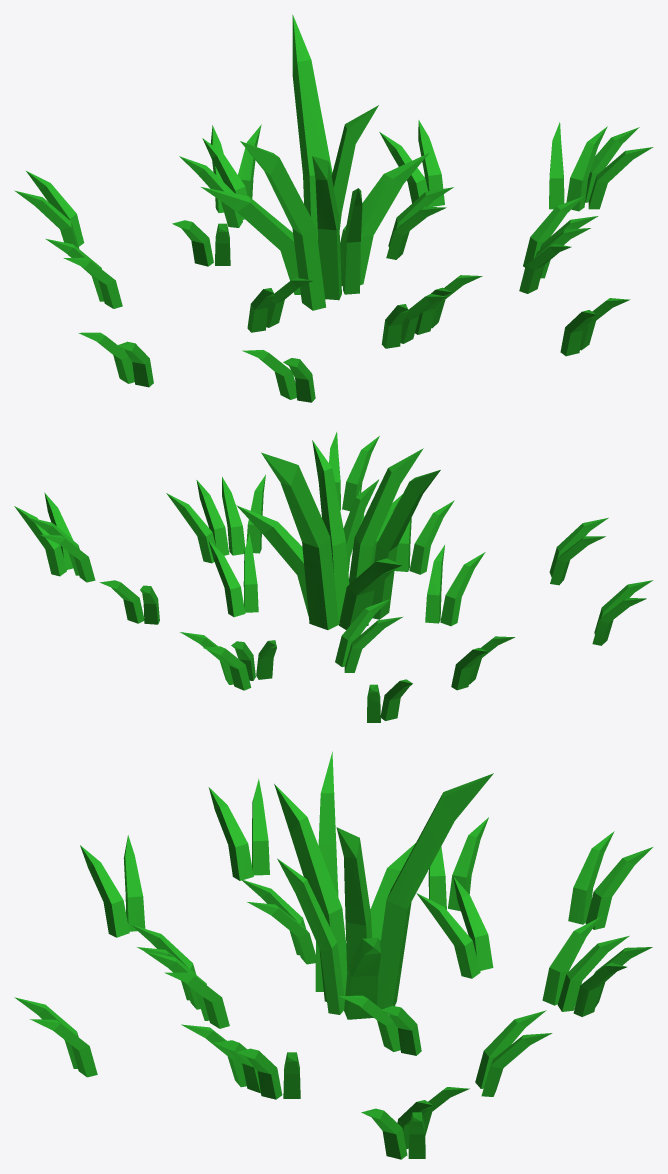
File: SM_Grass_01.fbx
The picture shows the model from 3 angles, top to bottom: view 1: azimuth 30°, elevation 25°; view 2: azimuth 150°, elevation 25°; view 3: azimuth 270°, elevation 25°; orthographic projection. The views are drawn at different scales.
Visible parts, largest first — view 1: SM_Grass_01; view 2: SM_Grass_01; view 3: SM_Grass_01.
Boxes of the visible parts, <box> form: SM_Grass_01: <box>14,14,653,402</box>; SM_Grass_01: <box>14,432,653,722</box>; SM_Grass_01: <box>14,751,652,1159</box>.
Size of the model in its own units: 141 by 47.21 by 112.
